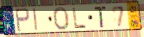7: (111, 6, 126, 29)
I: (32, 8, 40, 32)
L: (72, 8, 88, 30)
O: (52, 6, 71, 31)
P: (14, 7, 31, 33)
T: (93, 6, 107, 29)
